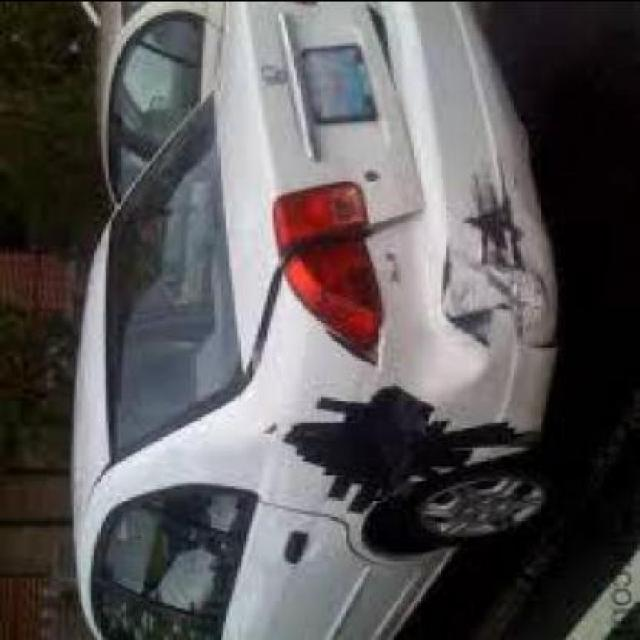damage: (271, 381, 540, 521), (418, 157, 560, 369)
